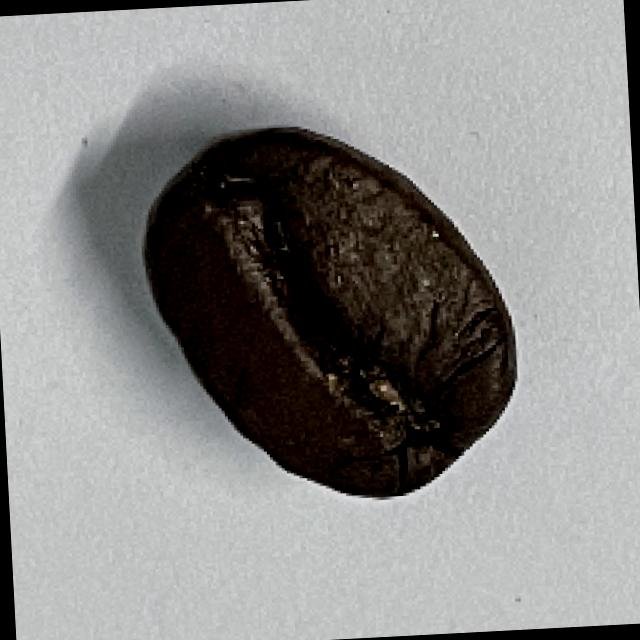bean: (140, 118, 528, 516)
